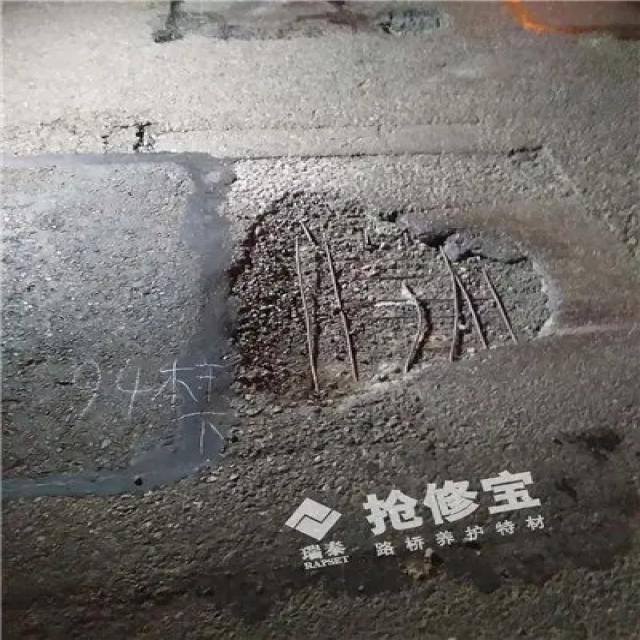Pothole: (213, 185, 565, 411)
